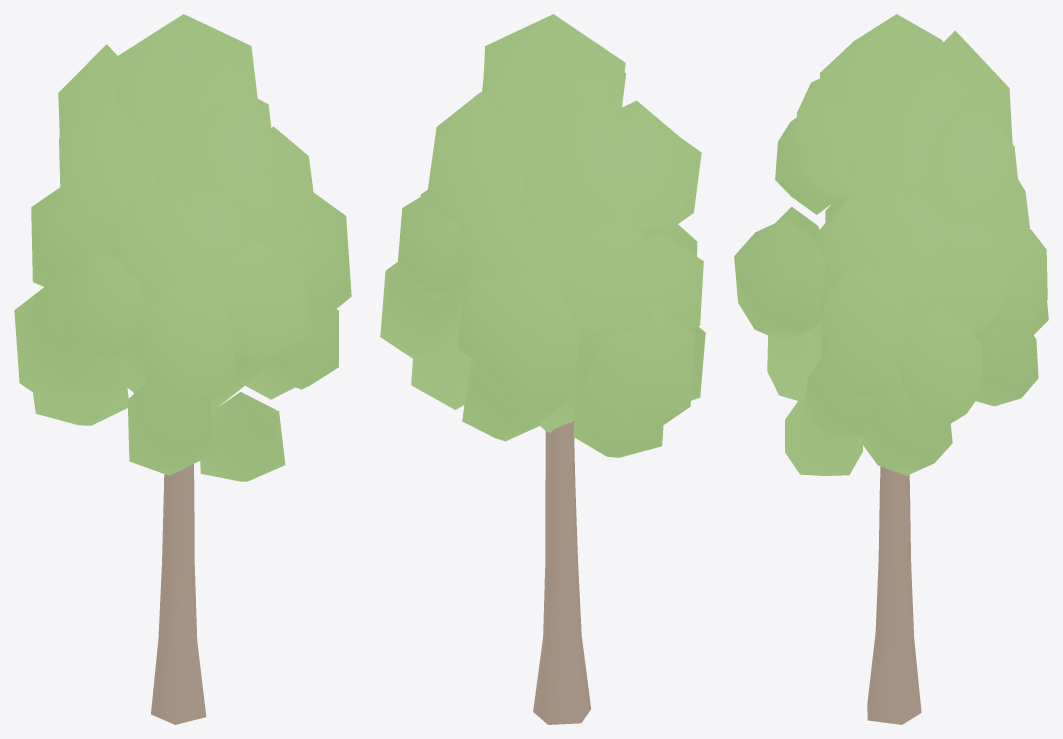
The model's file is Blender_Alder_1_Far.glb.
3 renders of one model, left to right at view 1: azimuth 30°, elevation 25°; view 2: azimuth 150°, elevation 25°; view 3: azimuth 270°, elevation 25°, orthographic.
Parts seen in each view (by area): view 1: Blender_Alder_1_Far; view 2: Blender_Alder_1_Far; view 3: Blender_Alder_1_Far.
Boxes of the visible parts, x1=… form: Blender_Alder_1_Far: x1=14, y1=14, x2=351, y2=724; Blender_Alder_1_Far: x1=380, y1=14, x2=705, y2=724; Blender_Alder_1_Far: x1=734, y1=14, x2=1048, y2=724.
Size of the model in its own units: 8.95 by 20 by 8.12.
